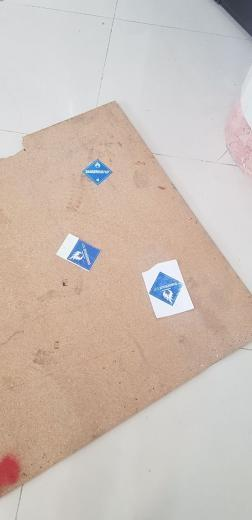dangerous-when-wet: (149, 272, 184, 306), (67, 240, 100, 271), (80, 158, 114, 186)
